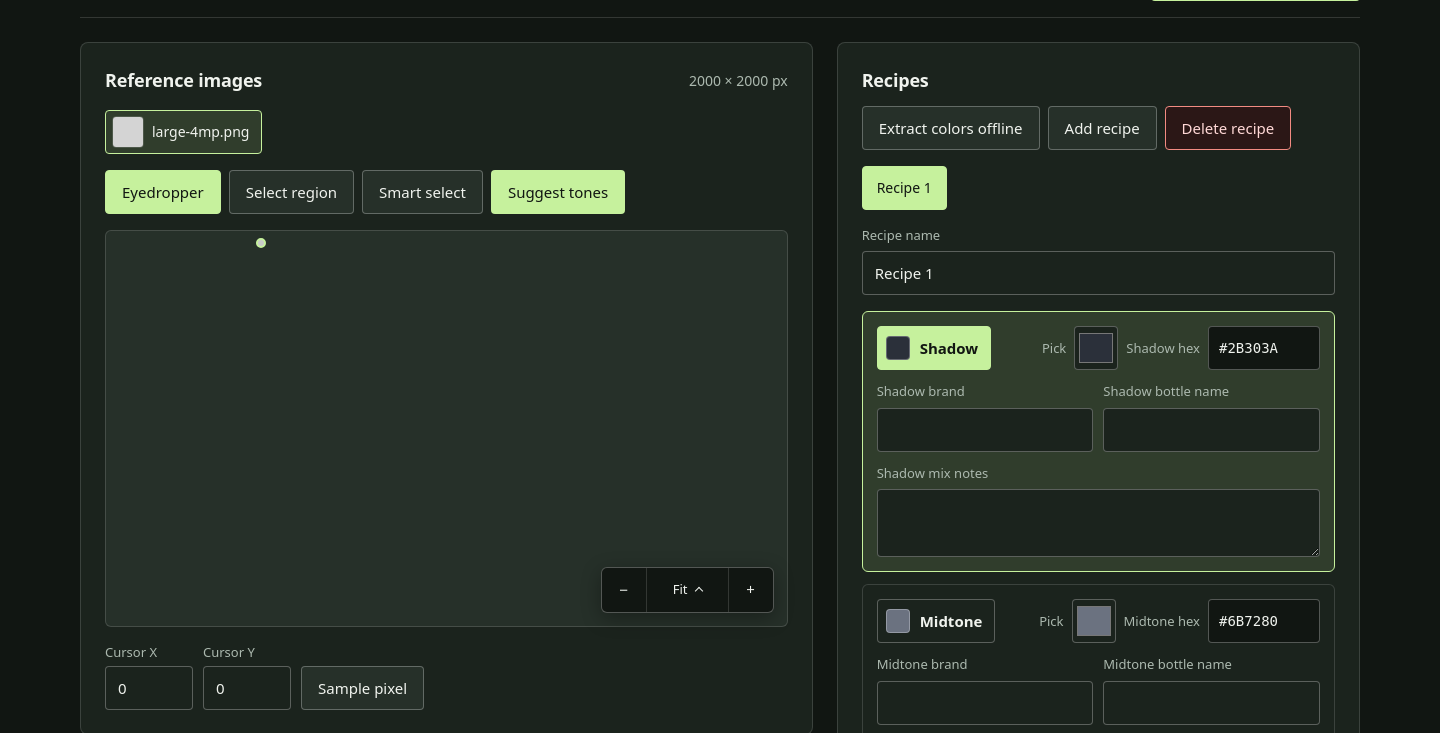
Scenario: PaletteWorkspace › bounds getImageData area memory for very large images while preserving exact 1x1 eyedropper sampling
Earlier steps of the test are not shown.
Press the mouse on the drawing with test id "reference-canvas" at point(446, 428), box [261,243,632,614]
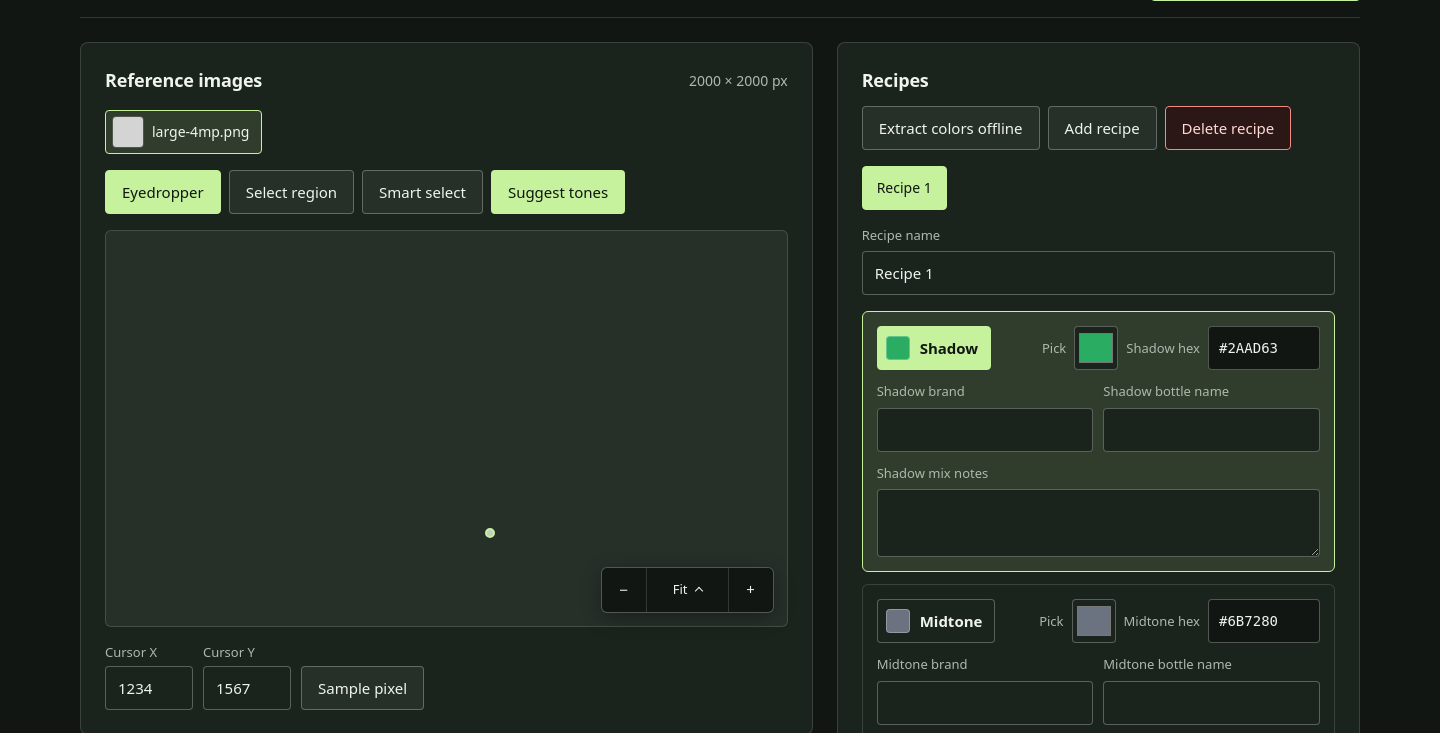
Check: the field labelled "Shadow hex" holds "#2AAD63", box [1208,326,1320,370]
Click the button "Suggest tones".
click(558, 192)  # box [491,170,625,214]
(page scrolled)
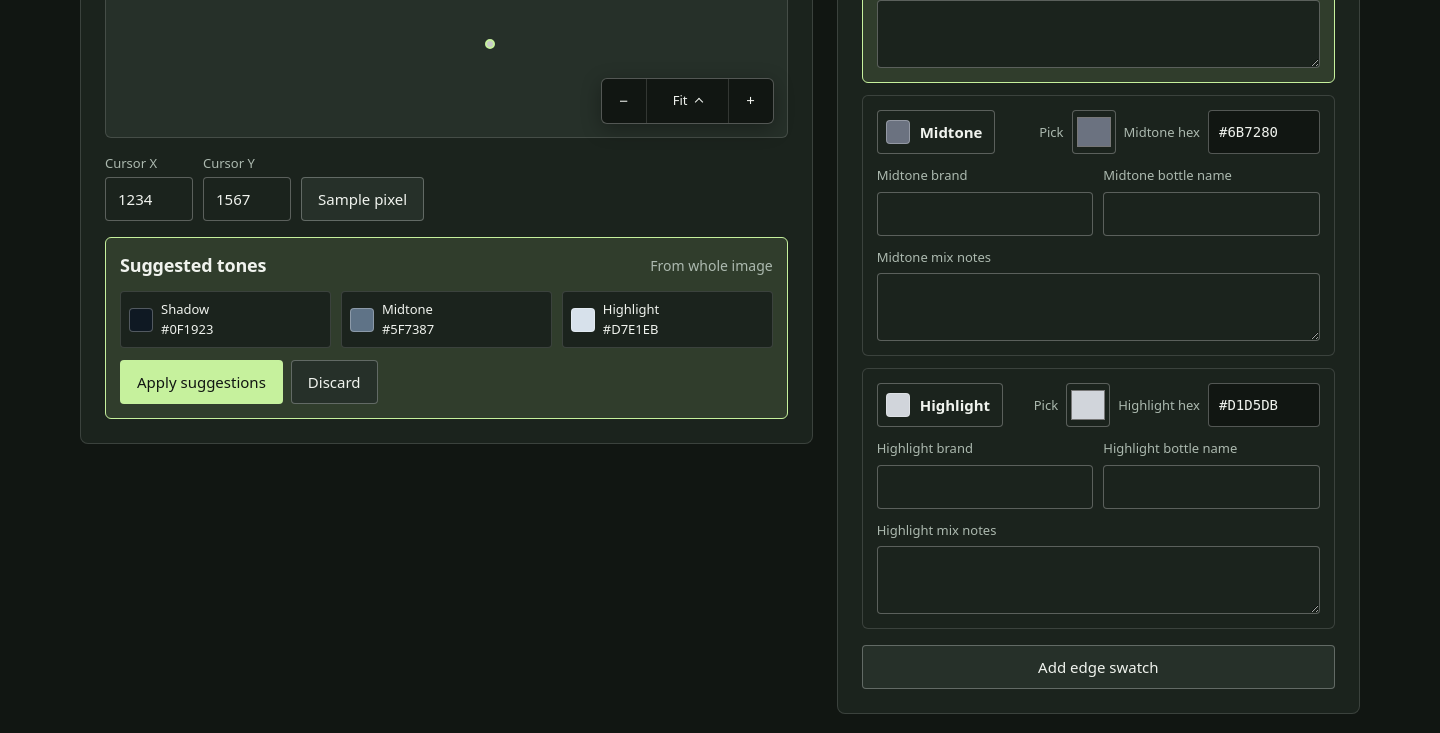
Check: the element named "tone suggestion preview" shows "#0F1923", box [161,320,213,338]
Check: the element named "tone suggestion preview" shows "#5F7387", box [382,320,434,338]
Check: the element named "tone suggestion preview" shows "#D7E1EB", box [603,320,658,338]
